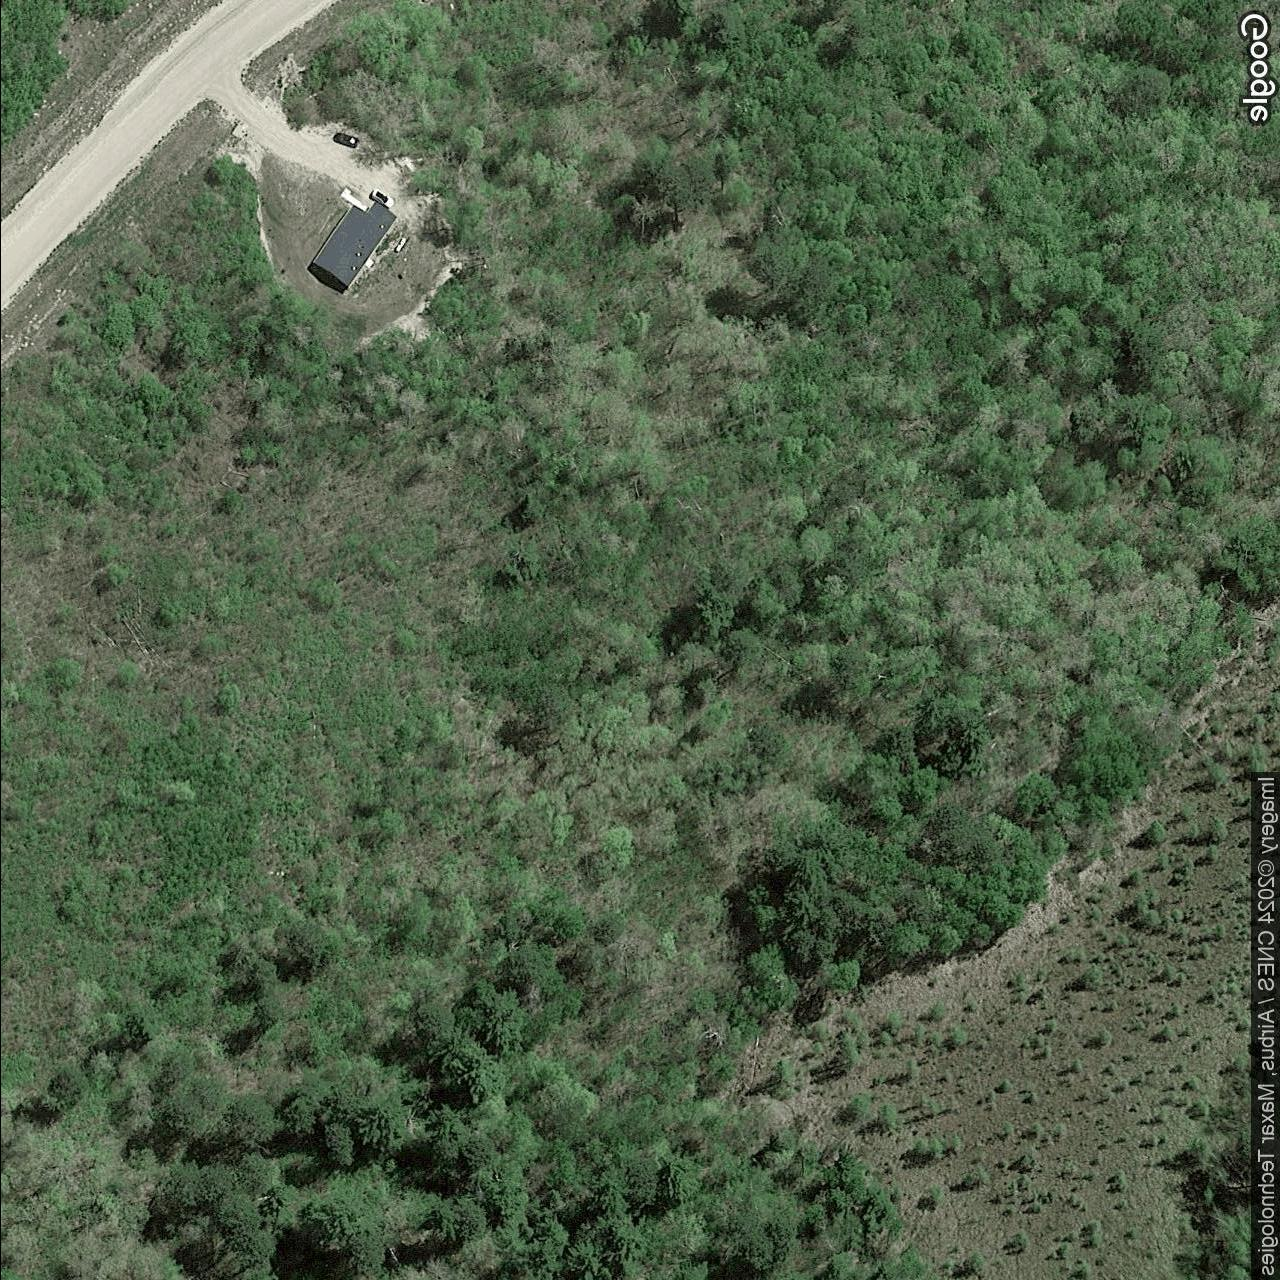House: (309, 200, 399, 290)
Propane: (389, 234, 409, 257)
